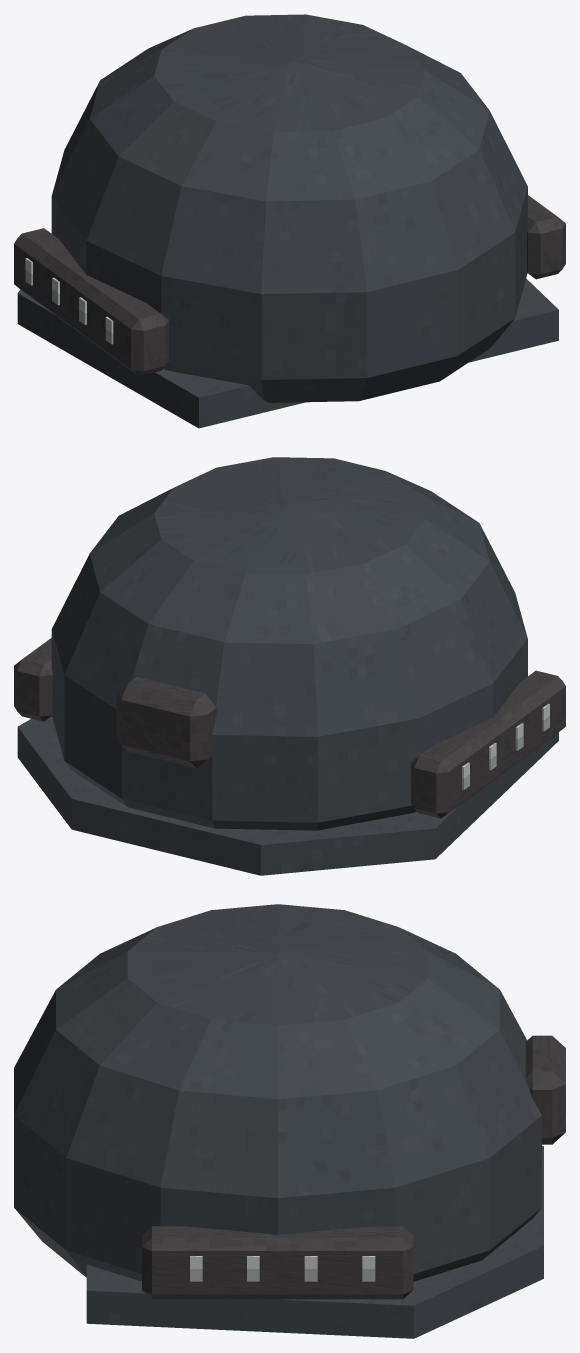
File: tac_helmet.glb
The picture shows the model from 3 angles, top to bottom: view 1: azimuth 30°, elevation 25°; view 2: azimuth 150°, elevation 25°; view 3: azimuth 270°, elevation 25°; orthographic projection. The views are drawn at different scales.
Parts seen in each view (by area): view 1: block_helmet shell, block_side accessory rail (×2), block_helmet rim; view 2: block_helmet shell, block_helmet rim, block_side accessory rail (×2), block_front mount cap; view 3: block_helmet shell, block_helmet rim, block_side accessory rail, block_front mount cap.
Part boxes in pixels (left/top/right/bottom): block_helmet shell: left=51, top=14, right=527, bottom=402; block_side accessory rail (×2): left=14, top=195, right=565, bottom=375; block_helmet rim: left=17, top=278, right=558, bottom=428; block_helmet shell: left=51, top=457, right=527, bottom=830; block_helmet rim: left=17, top=716, right=558, bottom=875; block_side accessory rail (×2): left=14, top=638, right=565, bottom=818; block_front mount cap: left=116, top=677, right=216, bottom=768; block_helmet shell: left=14, top=904, right=541, bottom=1281; block_helmet rim: left=86, top=1146, right=543, bottom=1338; block_side accessory rail: left=142, top=1226, right=413, bottom=1299; block_front mount cap: left=525, top=1035, right=565, bottom=1144.
Bounding box in the file's own units: 0.3049 × 0.1708 × 0.3094.
1 material, 1 textured.
